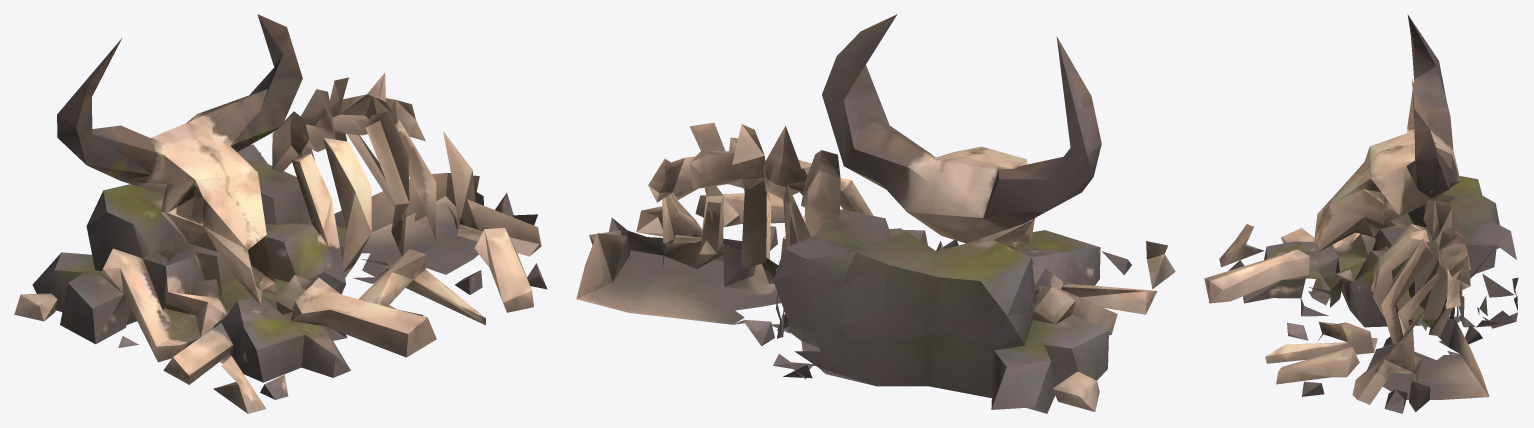
Rendered from bone_pile.glb.
3 views of the same model, side by side, from view 1: azimuth 30°, elevation 25°; view 2: azimuth 150°, elevation 25°; view 3: azimuth 270°, elevation 25° (orthographic). The views are drawn at different scales.
Visible parts, largest first — view 1: body; view 2: body; view 3: body.
Boxes of the visible parts, <box> form: body: <box>14,14,547,413</box>; body: <box>576,14,1175,413</box>; body: <box>1204,14,1518,413</box>.
Bounding box in the file's own units: 0.5035 × 0.2993 × 0.3543.
Materials: 1 (1 with a texture image).
